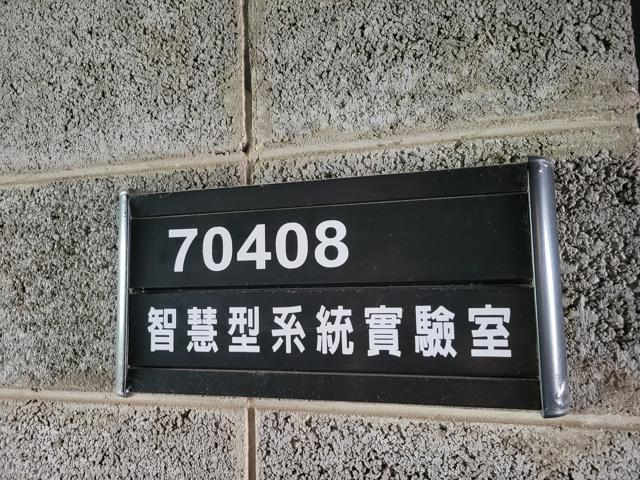doorplate: (102, 149, 580, 426)
